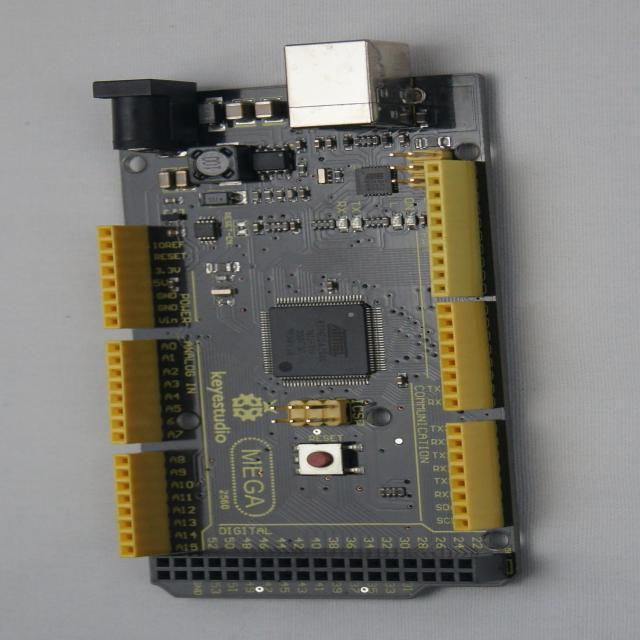Arduino Mega 2560 -Yellow-: (93, 41, 517, 597)
